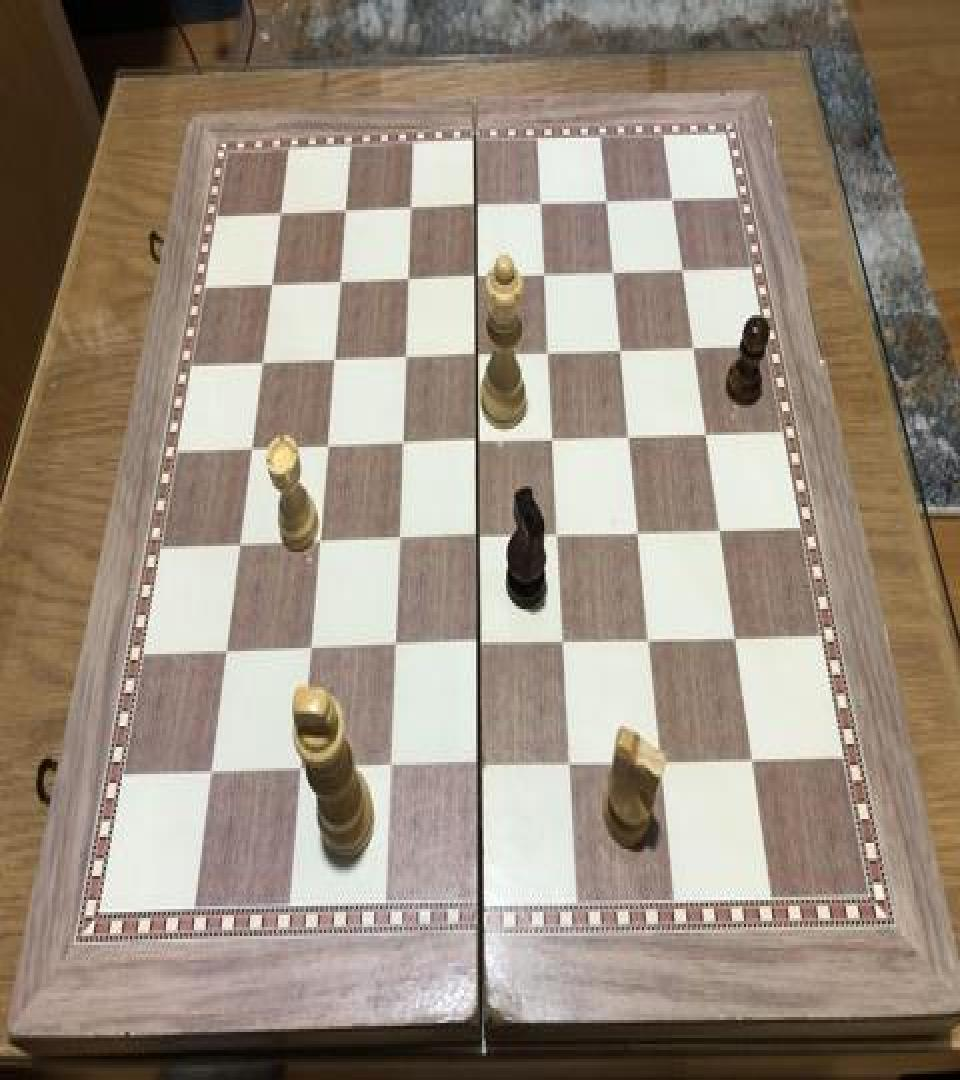xcorner: (625, 514, 649, 551), (299, 631, 323, 668), (647, 742, 671, 779), (467, 748, 491, 785), (659, 180, 683, 216), (594, 183, 618, 219), (529, 186, 553, 222), (464, 189, 488, 225), (399, 192, 423, 228), (335, 194, 359, 230), (271, 196, 295, 232), (669, 250, 693, 286), (600, 254, 624, 290), (532, 256, 556, 292), (397, 262, 421, 298), (329, 264, 353, 300), (262, 267, 286, 303), (608, 332, 632, 368), (536, 334, 560, 370), (465, 338, 489, 374), (394, 340, 418, 376), (323, 342, 347, 378), (252, 345, 276, 381), (692, 416, 716, 452), (616, 418, 640, 454), (541, 420, 565, 456), (465, 423, 489, 459), (390, 426, 414, 462), (316, 429, 340, 465), (241, 432, 265, 468), (705, 512, 729, 548), (545, 516, 569, 552), (466, 519, 490, 555), (387, 522, 411, 558), (308, 525, 332, 561), (229, 528, 253, 564), (721, 620, 745, 656), (636, 621, 660, 657), (551, 624, 575, 660), (467, 627, 491, 663), (383, 630, 407, 666), (216, 634, 240, 670), (738, 741, 762, 777), (557, 746, 581, 782), (378, 752, 402, 788), (289, 753, 313, 789), (200, 756, 224, 792), (464, 260, 488, 295), (680, 329, 704, 364)
